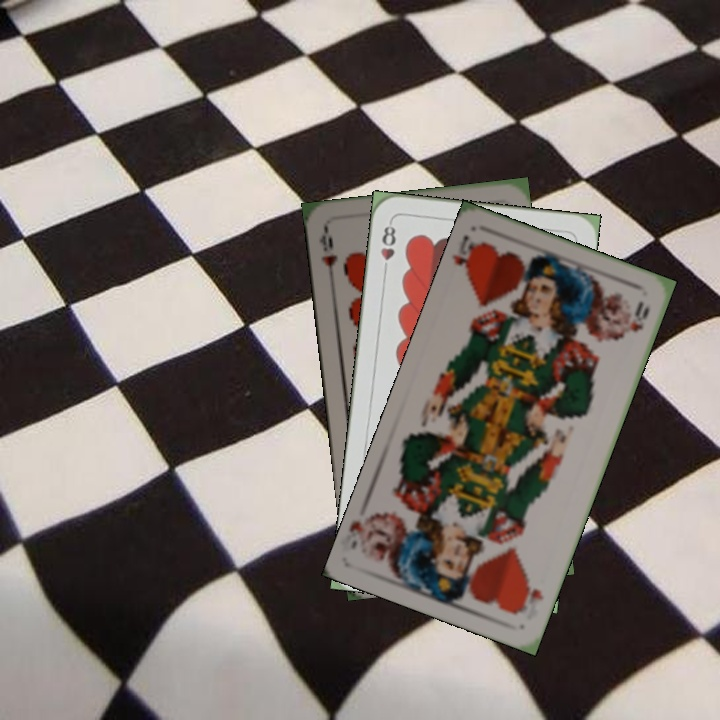H8: (377, 217, 399, 277)
H9: (315, 225, 340, 284)
HO: (449, 230, 484, 284), (513, 574, 546, 623)
